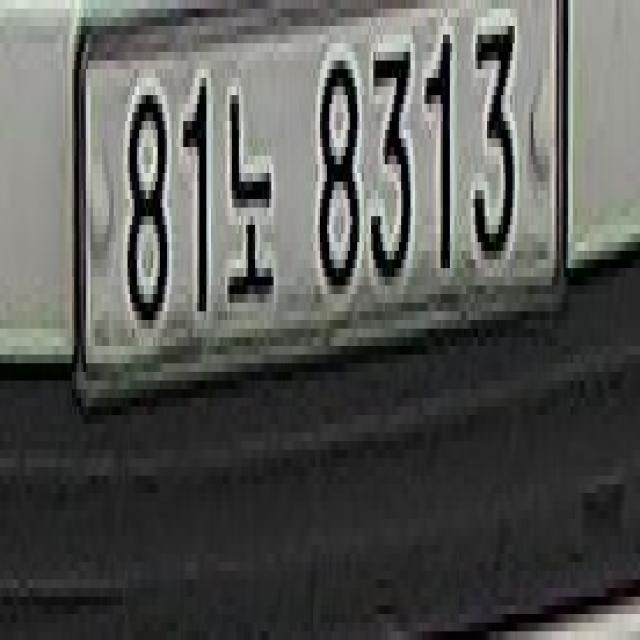plat: (70, 1, 571, 412)
